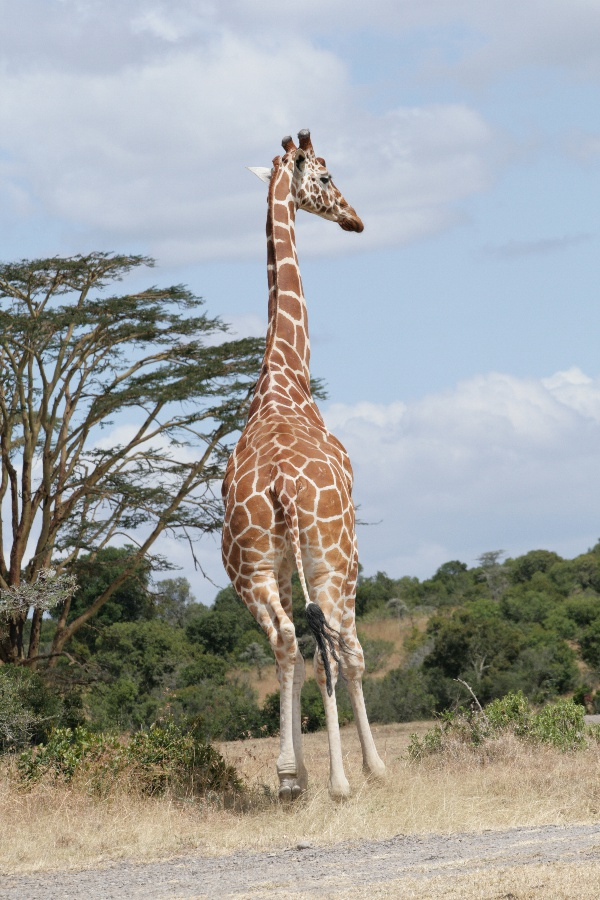giraffe: (210, 119, 406, 811)
